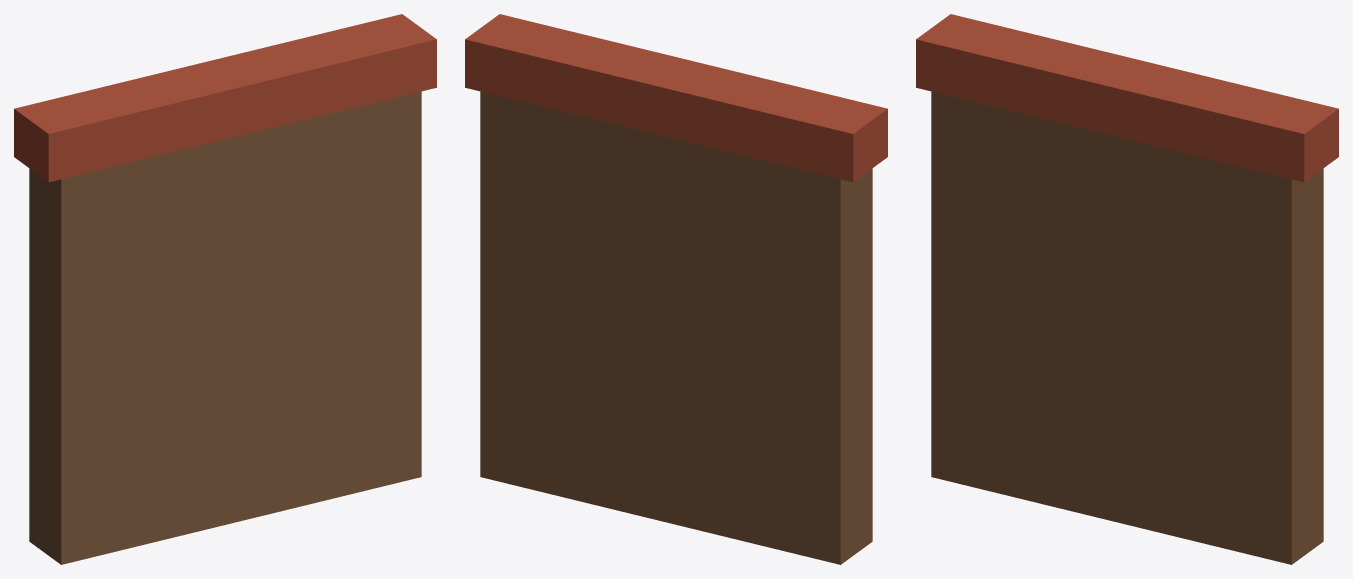
File: leather-vest-prototype.glb
The picture shows the model from 3 angles, left to right: view 1: azimuth 30°, elevation 25°; view 2: azimuth 150°, elevation 25°; view 3: azimuth 330°, elevation 25°; orthographic projection.
Parts seen in each view (by area): view 1: leather-vest, scarred-collar; view 2: leather-vest, scarred-collar; view 3: leather-vest, scarred-collar.
Part boxes in pixels (x1,y1,x2,y2): leather-vest: [29, 91, 421, 564]; scarred-collar: [14, 14, 436, 182]; leather-vest: [480, 91, 872, 564]; scarred-collar: [465, 14, 887, 182]; leather-vest: [931, 91, 1323, 564]; scarred-collar: [916, 14, 1338, 182].
Size of the model in its own units: 0.84 by 0.9 by 0.13.
